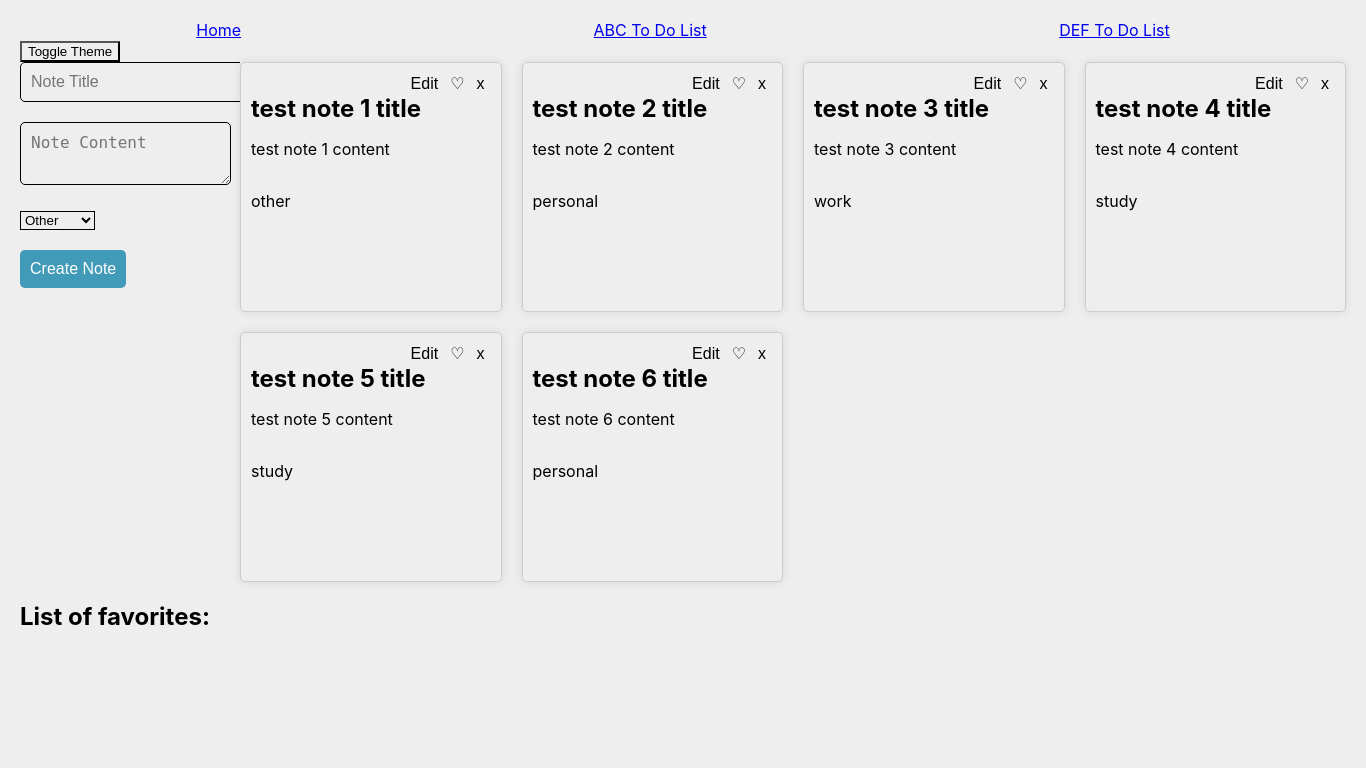
Test: Check ToDo list title link › DEF title link
What coordinates should you click on to do the following:
click the link "DEF To Do List"
I would click on:
 (1114, 30)
Its box is [1059,20,1170,40].
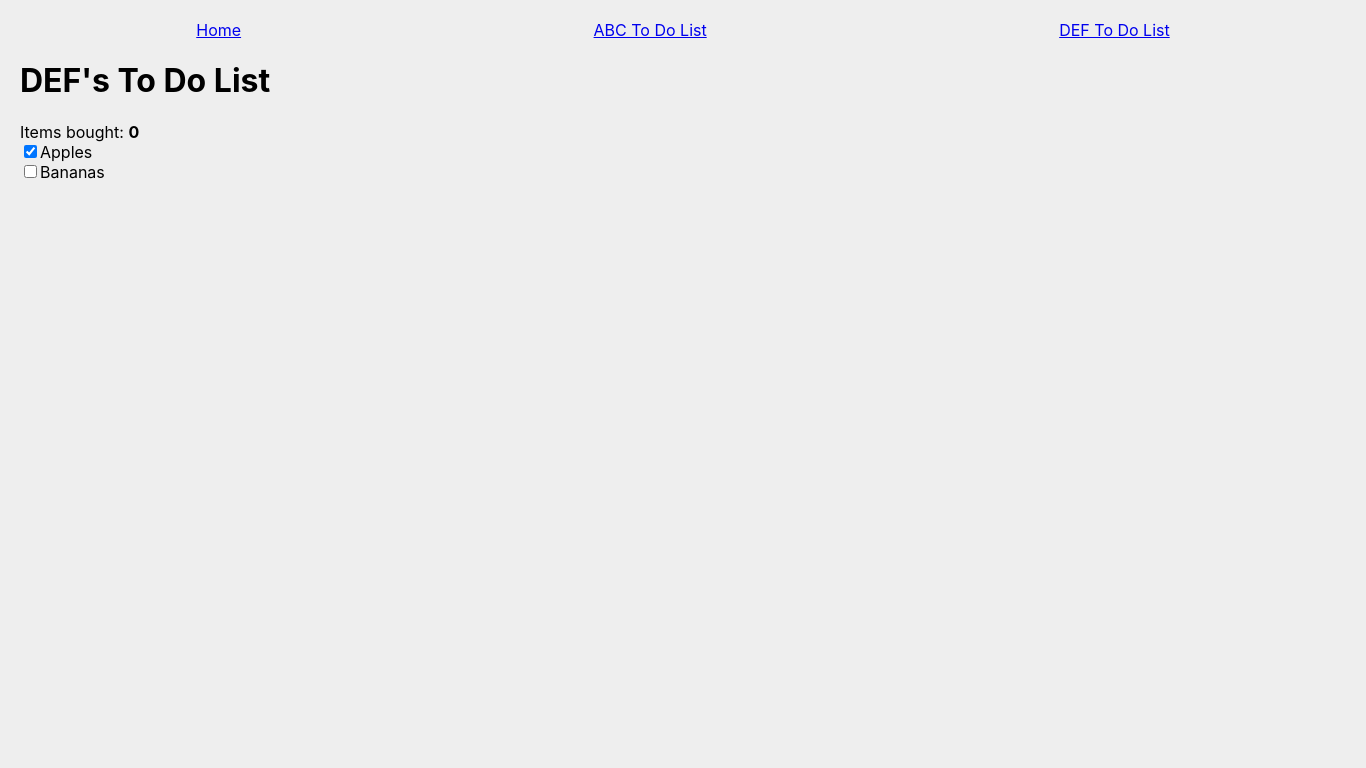
Result: the heading "DEF's To Do List" is shown at [20,61,270,100]
